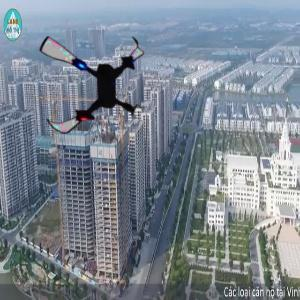drone: (27, 18, 153, 144)
